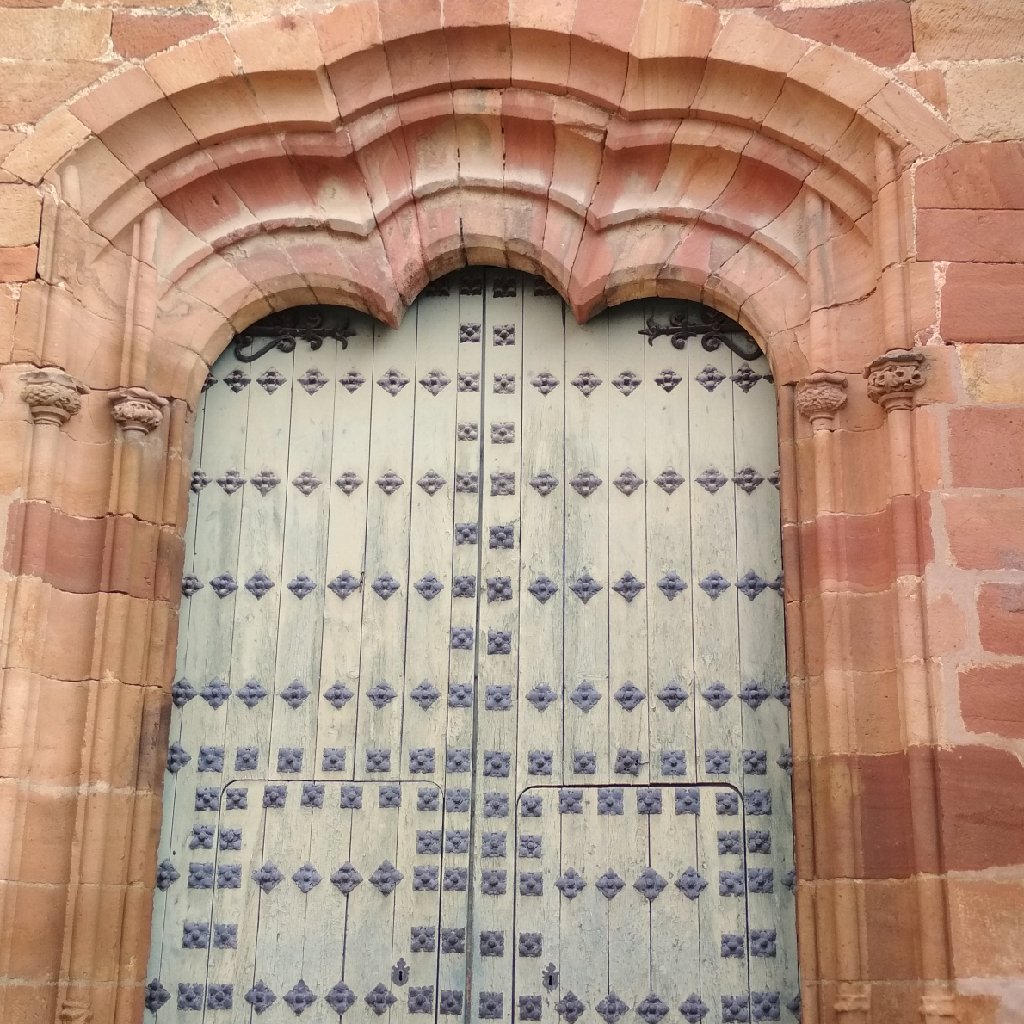arco-trilobulado: (176, 220, 802, 442)
